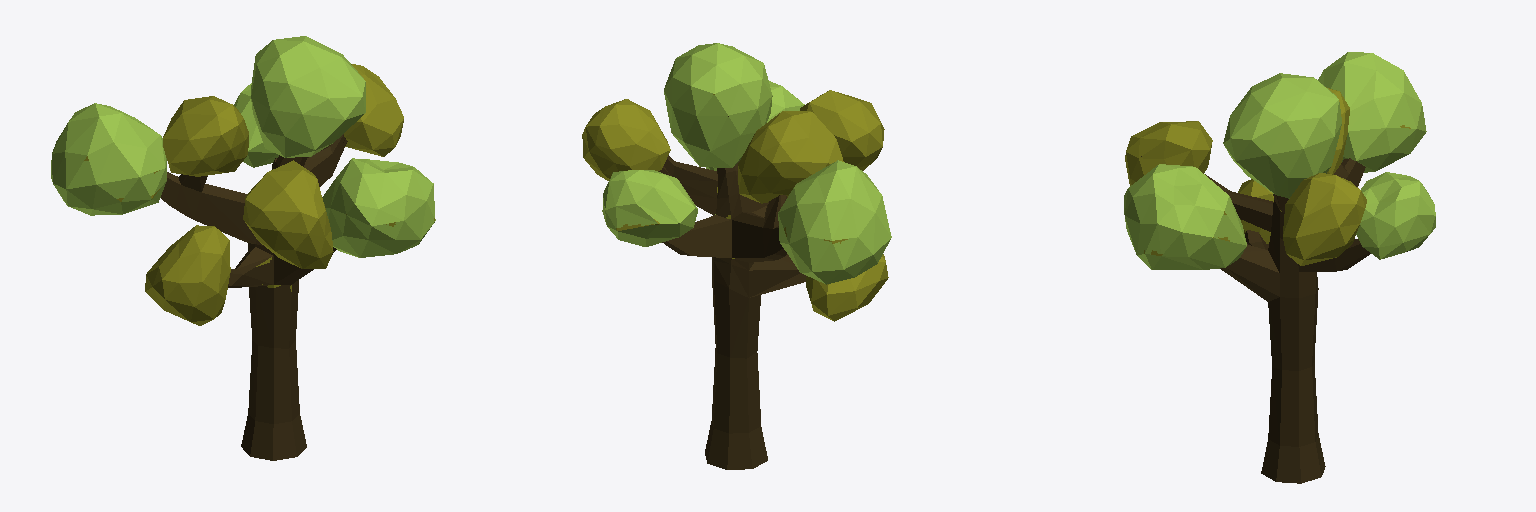
The picture shows the model from 3 angles: view 1: azimuth 30°, elevation 25°; view 2: azimuth 150°, elevation 25°; view 3: azimuth 270°, elevation 25°; orthographic projection.
Visible parts, largest first — view 1: Arbre_Normal; view 2: Arbre_Normal; view 3: Arbre_Normal.
Boxes of the visible parts, box(x1,y1,x2,y2) form: Arbre_Normal: box(51, 36, 435, 460); Arbre_Normal: box(582, 43, 891, 469); Arbre_Normal: box(1124, 52, 1435, 483).
Bounding box in the file's own units: 3.18 × 3.92 × 2.75.
Materials: 1 (1 with a texture image).